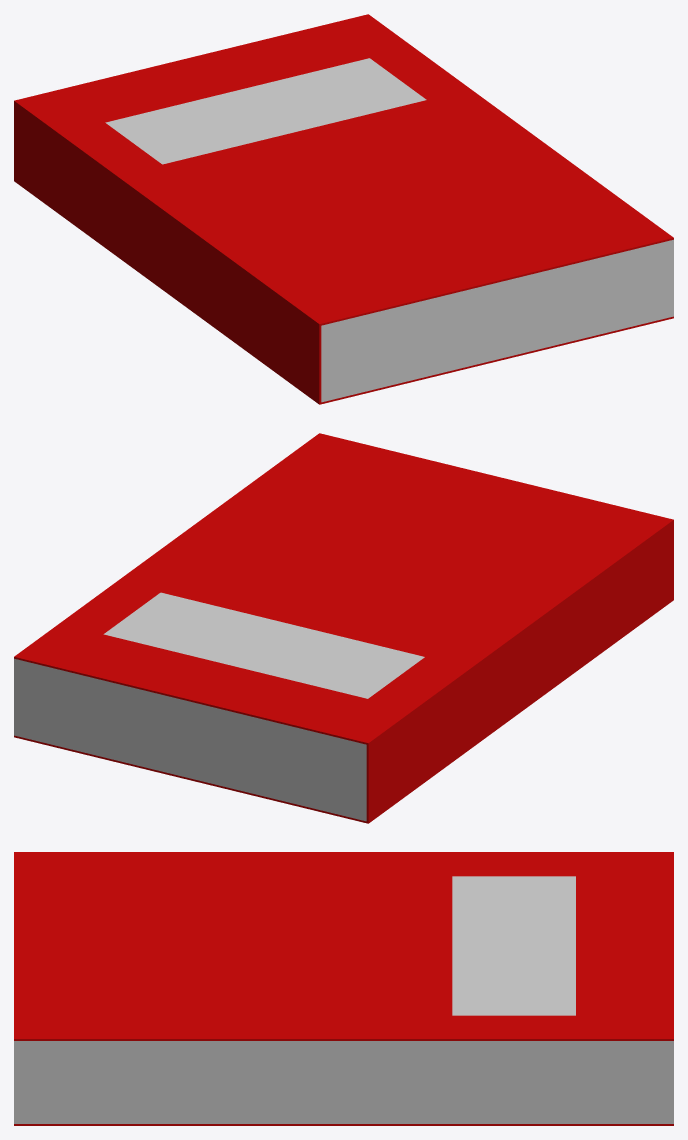
The model's file is Book11.fbx.
The picture shows the model from 3 angles, top to bottom: view 1: azimuth 30°, elevation 25°; view 2: azimuth 150°, elevation 25°; view 3: azimuth 270°, elevation 25°; orthographic projection. The views are drawn at different scales.
Parts seen in each view (by area): view 1: Cube; view 2: Cube; view 3: Cube.
Boxes of the visible parts, <box> form: Cube: <box>14,14,673,404</box>; Cube: <box>14,433,673,823</box>; Cube: <box>14,852,673,1125</box>.
Size of the model in its own units: 0.3015 by 0.0654 by 0.45.
